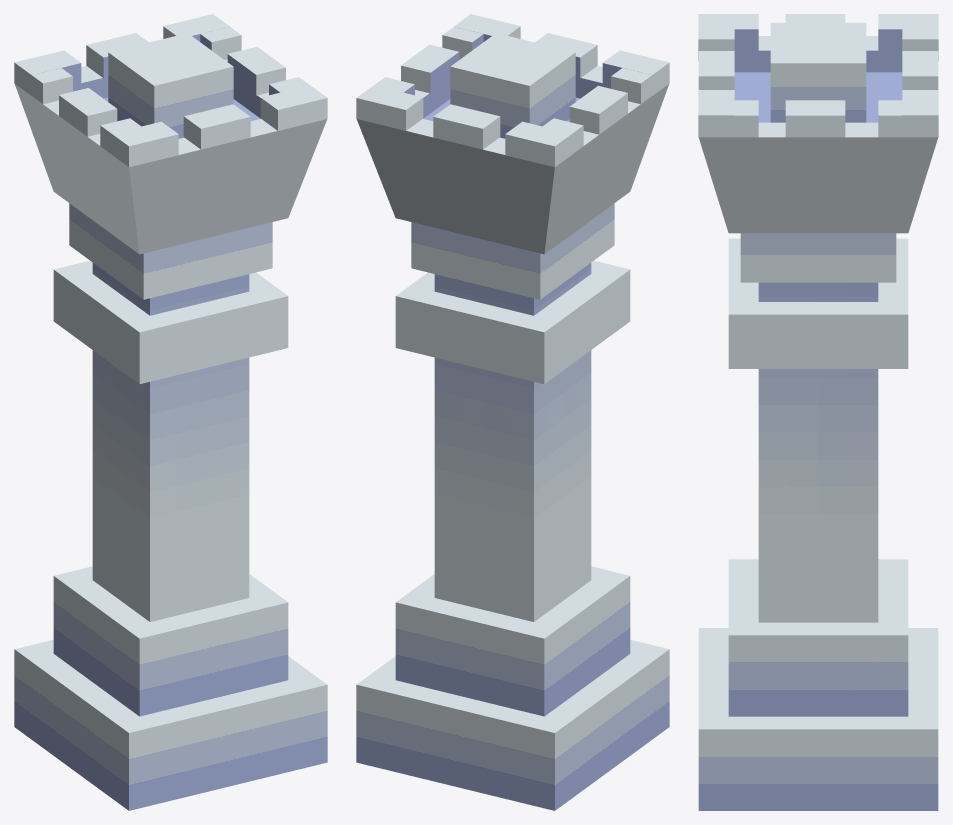
Rendered from Queen White.gltf.
3 renders of one model, left to right at view 1: azimuth 30°, elevation 25°; view 2: azimuth 150°, elevation 25°; view 3: azimuth 270°, elevation 25°, orthographic. The views are drawn at different scales.
Visible parts, largest first — view 1: cube (×18); view 2: cube (×18); view 3: cube (×19).
Boxes of the visible parts, x1,y1,x2,y2 form: cube (×18): (14,14,327,810); cube (×18): (356,14,669,810); cube (×19): (698,14,938,810).
Bounding box in the file's own units: 0.1251 × 0.4125 × 0.1251.
1 material, 1 textured.
